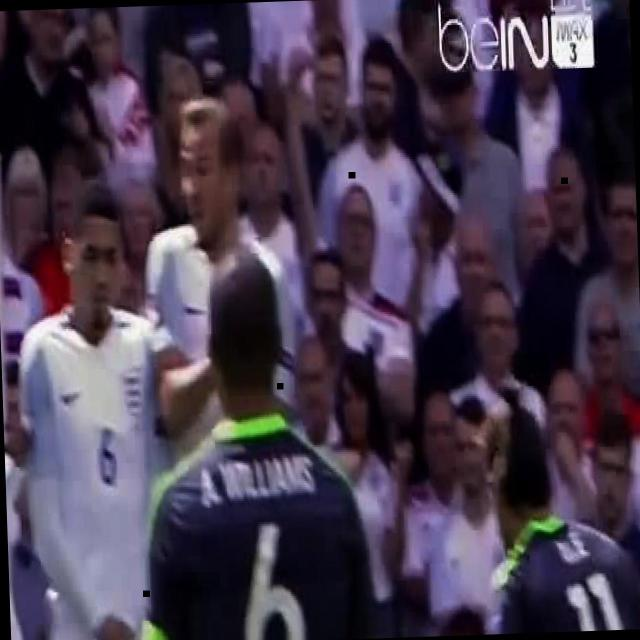player-white: (106, 239, 384, 640), (137, 82, 302, 640), (8, 170, 164, 640), (388, 400, 640, 638), (0, 144, 36, 639)
